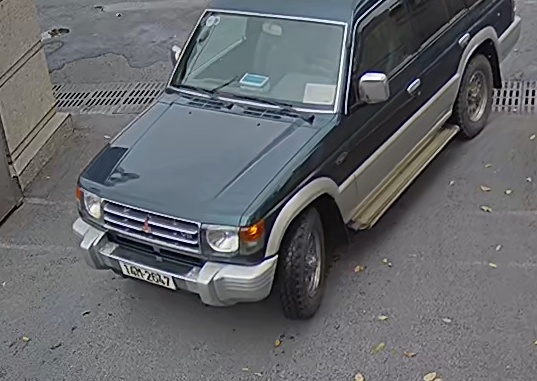vehicle plate: (116, 255, 177, 291)
